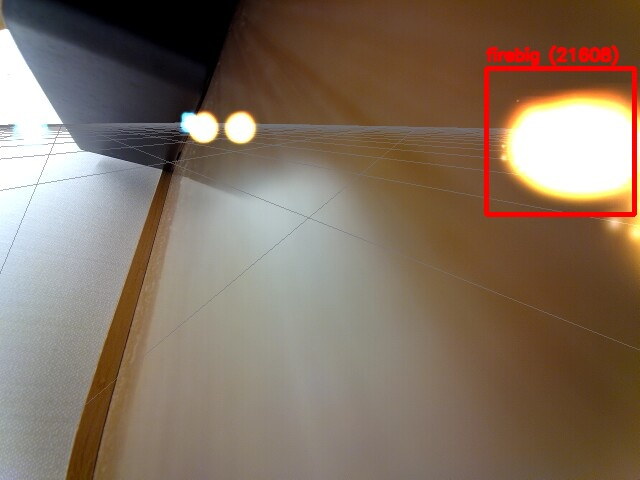firebig: (486, 68, 634, 214)
